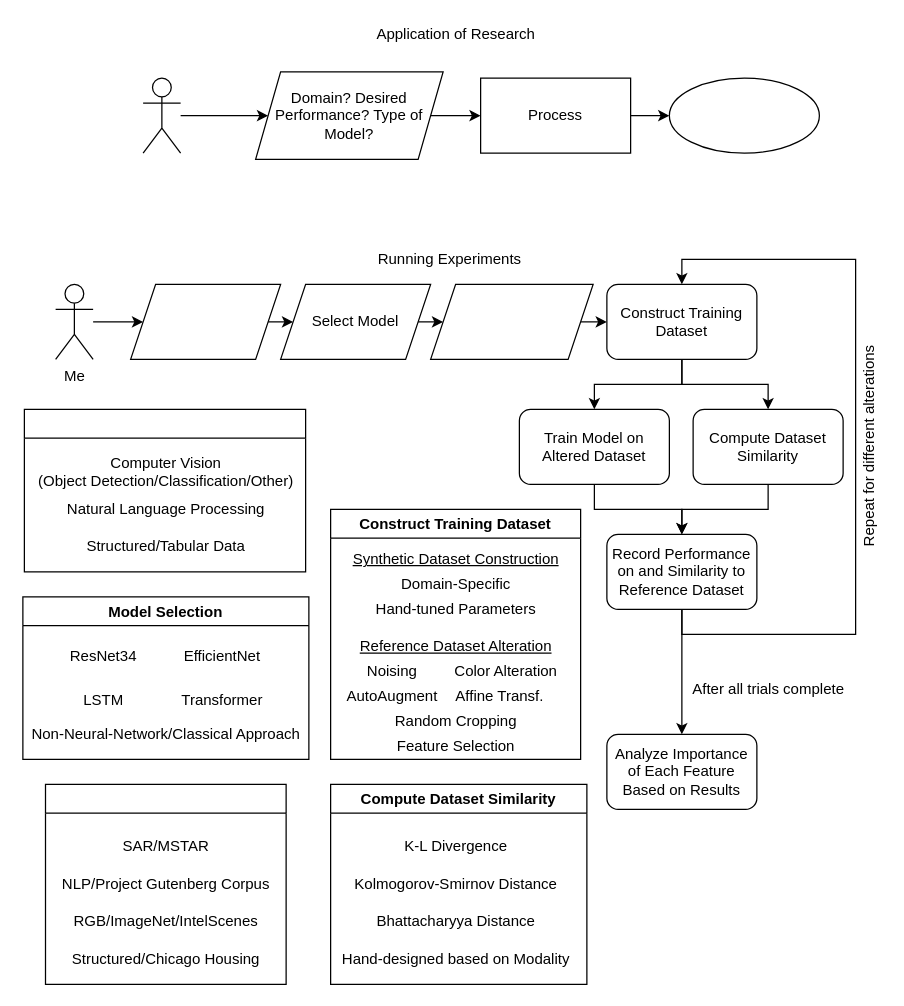
Image size: 904x1006. Some labels were removed from this diagram. The shapes that lost their labels are listed below. From the top down, each one's box as (x1, y1, x2, y2) in pixels, then its label:
(142, 77, 181, 153): Researcher
(668, 77, 819, 153): Output Required dataset similarity
(129, 283, 281, 359): Select Modality
(429, 283, 593, 359): Select Reference Dataset
(23, 408, 306, 572): Modality Selection
(44, 783, 286, 984): Reference Dataset Selection
